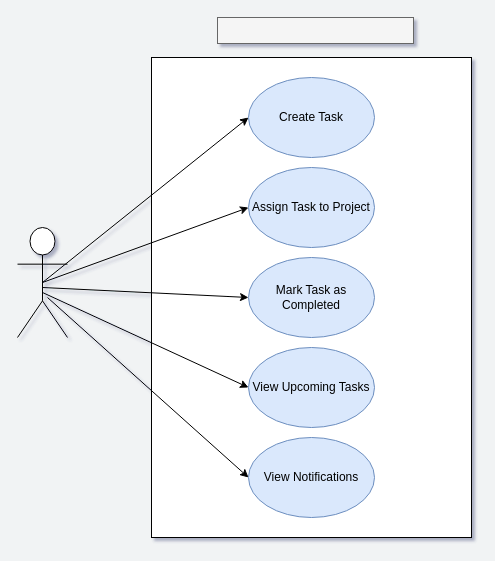
Some shapes in this 495 by 561 pixel diagram are drawn without their labels. Here are the shapes that lost their labels. From the top down, the centre of each, then its label:
point 315,30: Task & Project Management Tool
point 42,282: User
